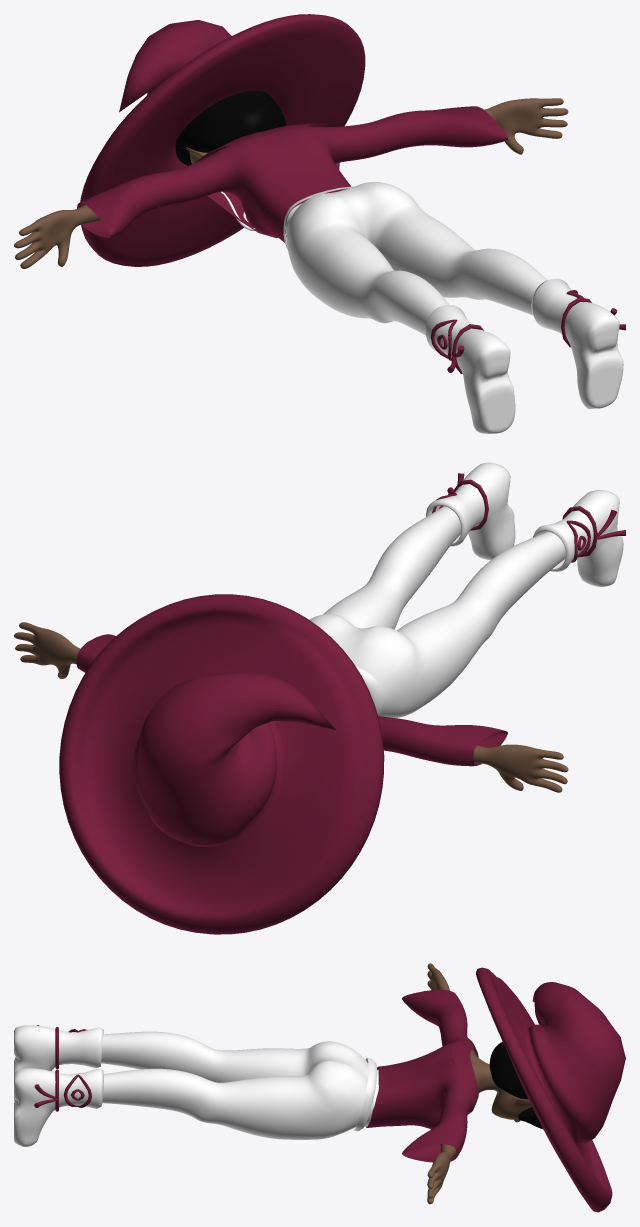
Rendered from EmiliaGlowUp.fbx.
3 renders of one model, top to bottom at view 1: azimuth 30°, elevation 25°; view 2: azimuth 150°, elevation 25°; view 3: azimuth 270°, elevation 25°, orthographic. The views are drawn at different scales.
Visible parts, largest first — view 1: Plane.003; view 2: Plane.003; view 3: Plane.003.
Part boxes in pixels (x1,y1,x2,y2): Plane.003: (14, 14, 625, 433); Plane.003: (14, 462, 625, 934); Plane.003: (14, 963, 625, 1212).
Size of the model in its own units: 1.86 by 0.9014 by 2.23.
